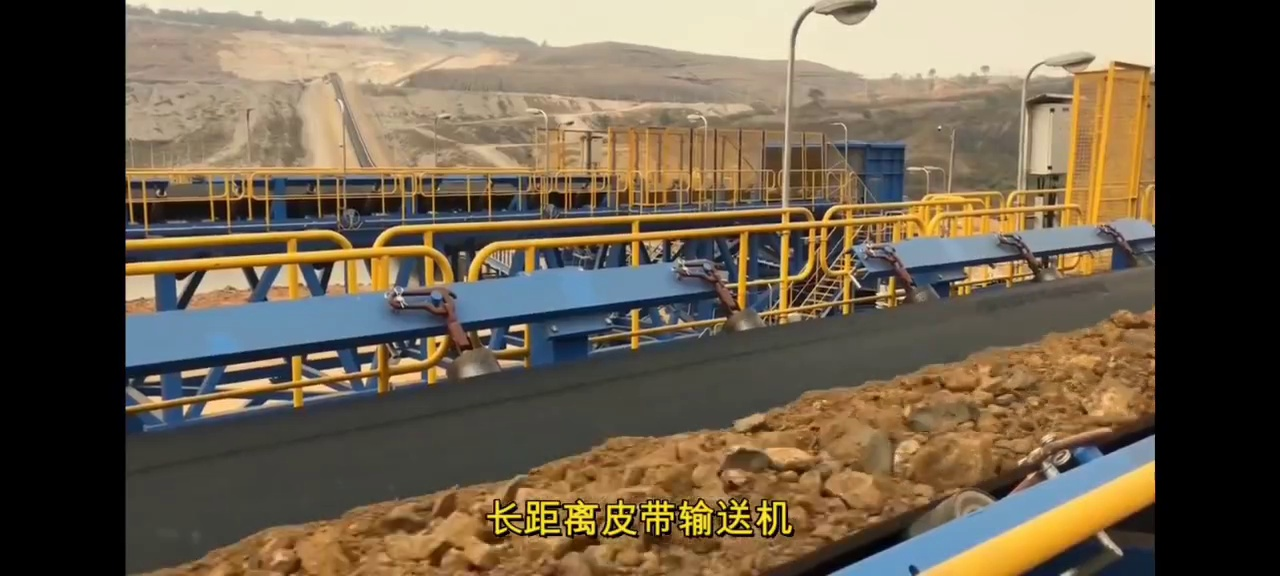open-belt: (674, 266, 1138, 491), (119, 348, 670, 504)
